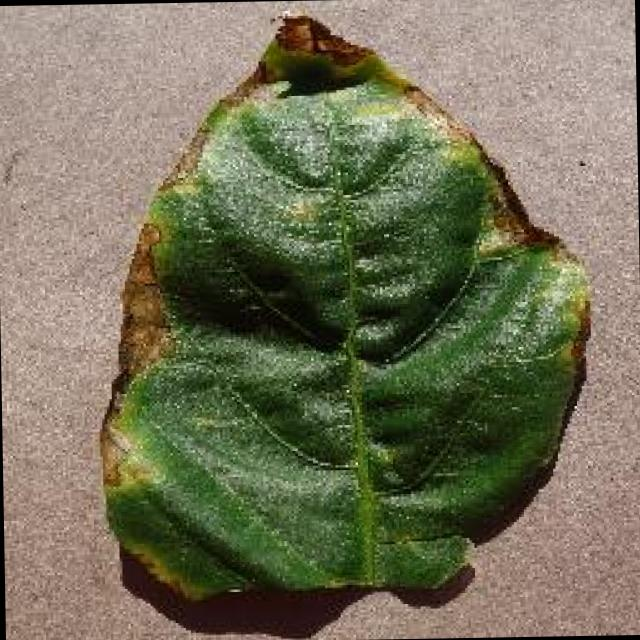Chilli_Bacterial_Spot: (87, 2, 600, 606), (148, 77, 490, 365), (247, 6, 409, 96), (267, 7, 371, 71), (270, 8, 328, 58)
